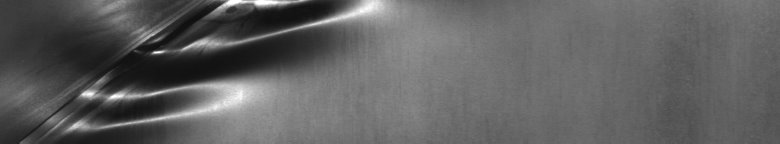ke: (32, 4, 356, 136)
